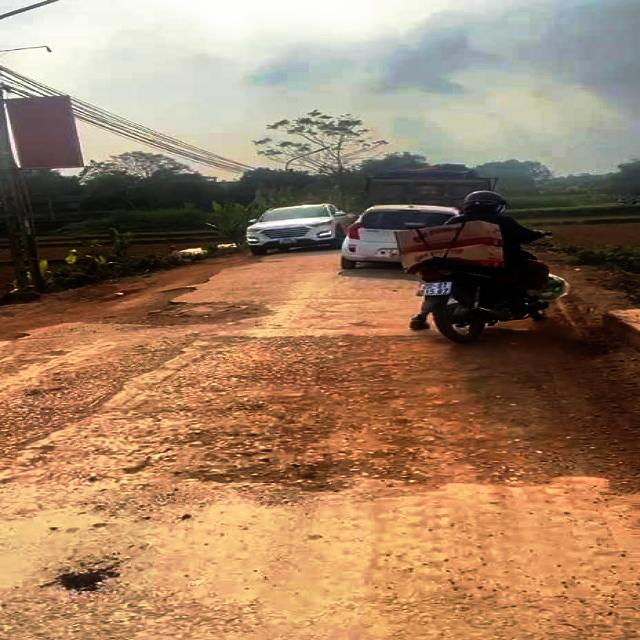pothole: (175, 452, 433, 497), (69, 284, 277, 328)
